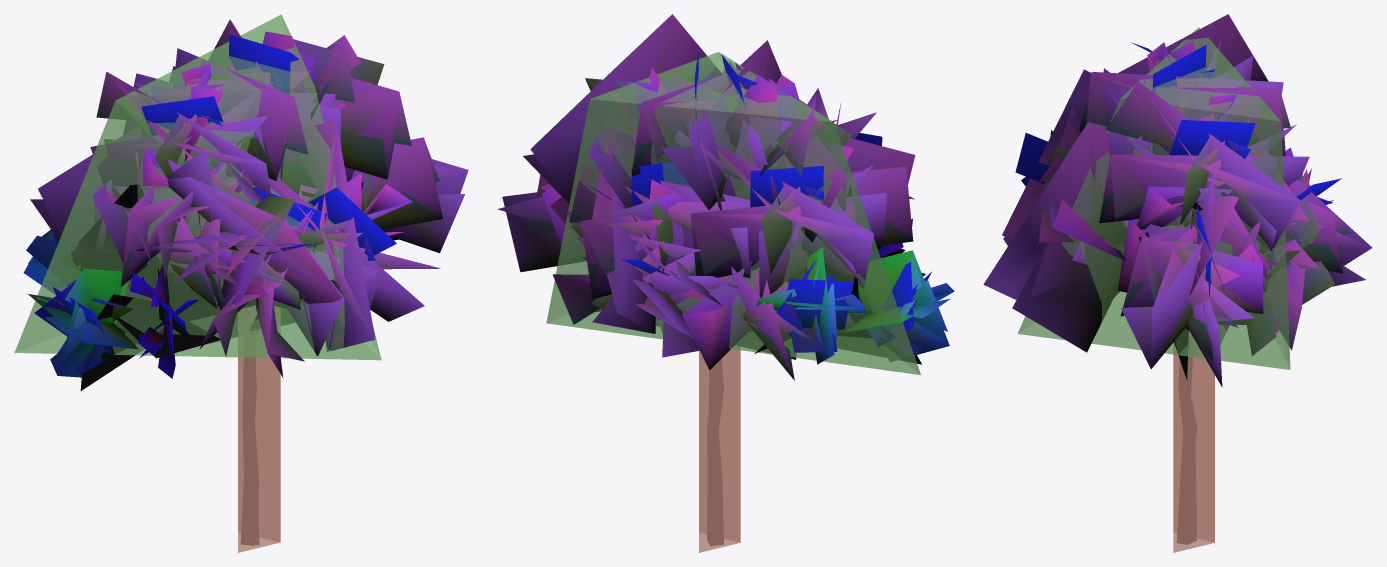
File: holm_oak_city_small.dae
3 views of the same model, side by side, from view 1: azimuth 30°, elevation 25°; view 2: azimuth 150°, elevation 25°; view 3: azimuth 270°, elevation 25° (orthographic). The views are drawn at different scales.
Visible parts, largest first — view 1: holm_oak_city_small_a150, holm_oak_city_small_a500, Colmesh-1; view 2: holm_oak_city_small_a150, holm_oak_city_small_a500, Colmesh-1; view 3: holm_oak_city_small_a150, holm_oak_city_small_a500, Colmesh-1.
Part boxes in pixels (x1,y1,x2,y2): holm_oak_city_small_a150: (24, 20, 468, 544); holm_oak_city_small_a500: (24, 19, 467, 545); Colmesh-1: (14, 14, 381, 552); holm_oak_city_small_a150: (502, 14, 954, 543); holm_oak_city_small_a500: (497, 15, 954, 545); Colmesh-1: (546, 52, 920, 552); holm_oak_city_small_a150: (983, 14, 1371, 544); holm_oak_city_small_a500: (1002, 15, 1372, 540); Colmesh-1: (1017, 27, 1290, 552).
Size of the model in its own units: 4.95 by 4.04 by 5.65.
